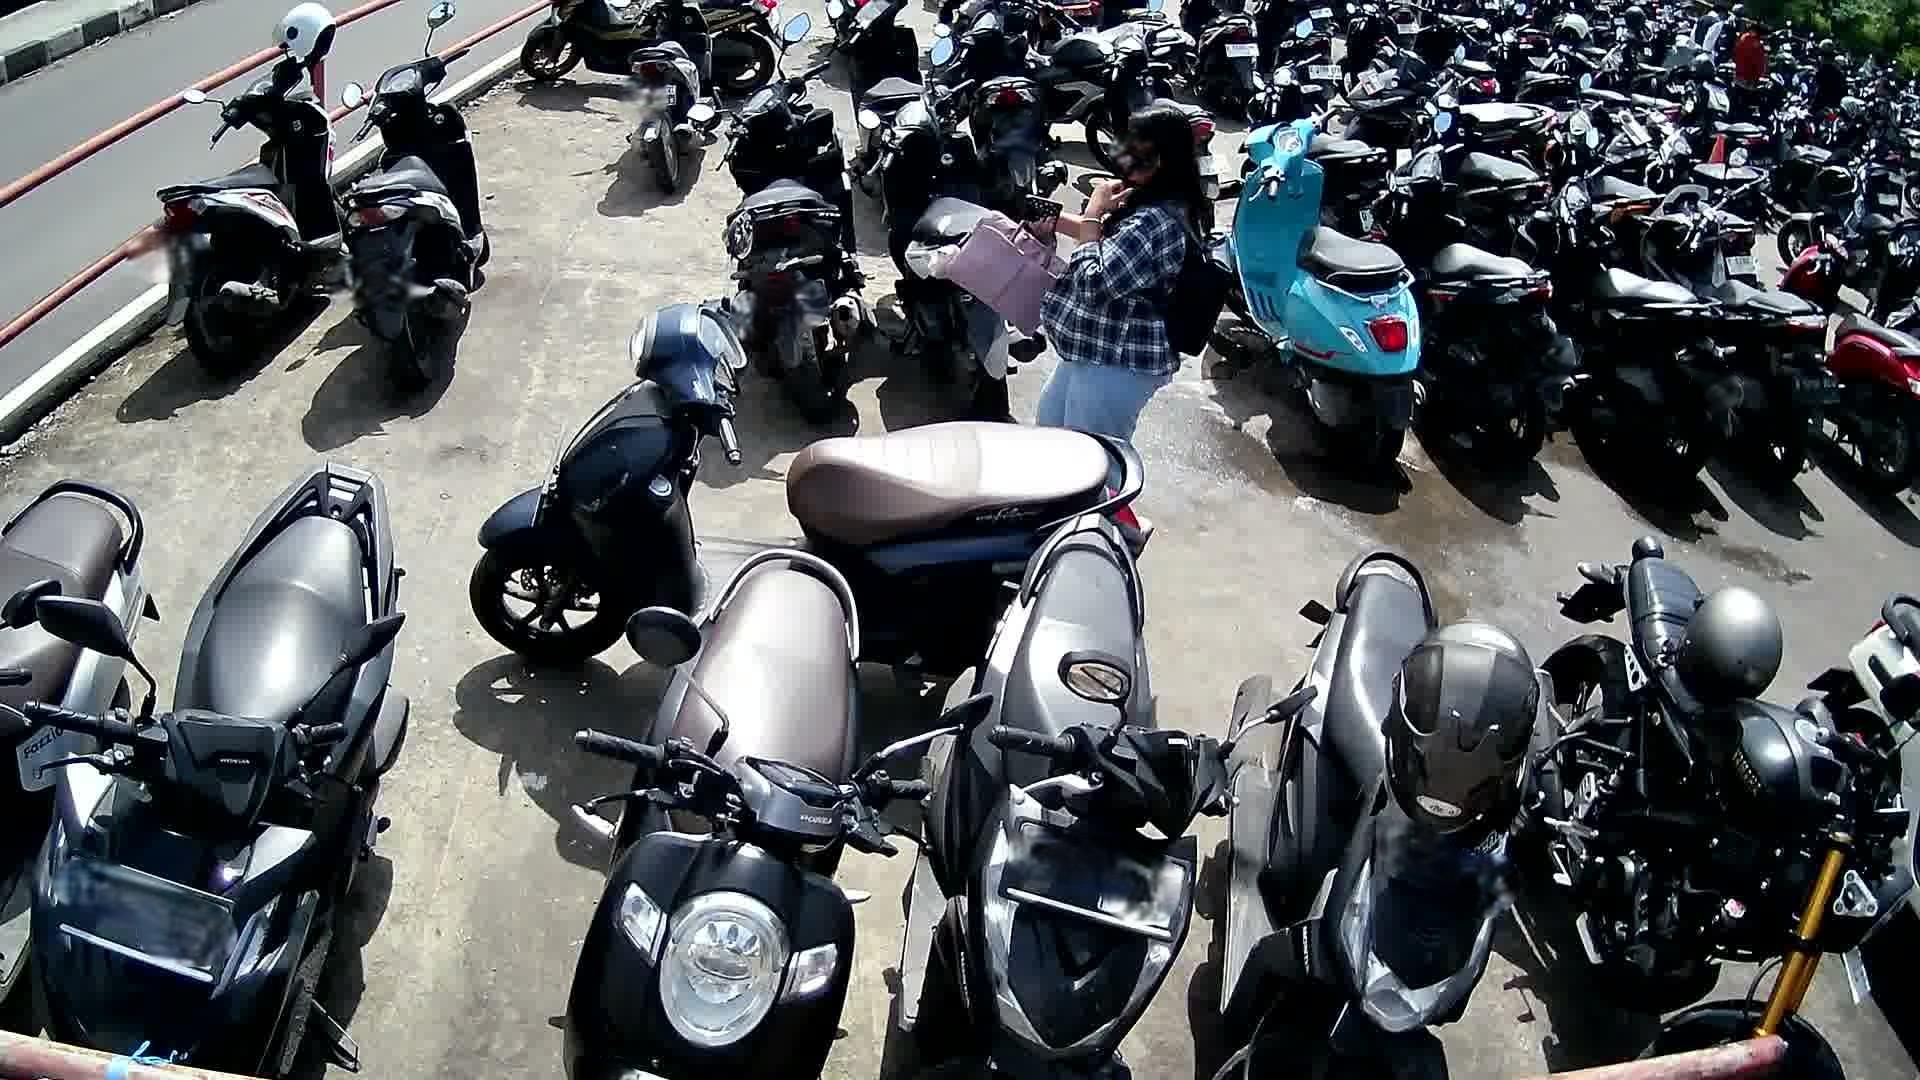motorcycle: (468, 284, 1150, 676), (25, 462, 413, 1080), (899, 514, 1278, 1080), (1531, 530, 1920, 1080), (562, 545, 931, 1080), (1217, 549, 1539, 1080), (0, 476, 164, 1018), (688, 12, 882, 425), (1506, 165, 1751, 487), (1217, 107, 1427, 479), (1364, 112, 1577, 469), (856, 36, 1050, 413), (1630, 181, 1846, 488), (335, 0, 496, 405), (153, 50, 342, 386), (1778, 216, 1920, 497)
